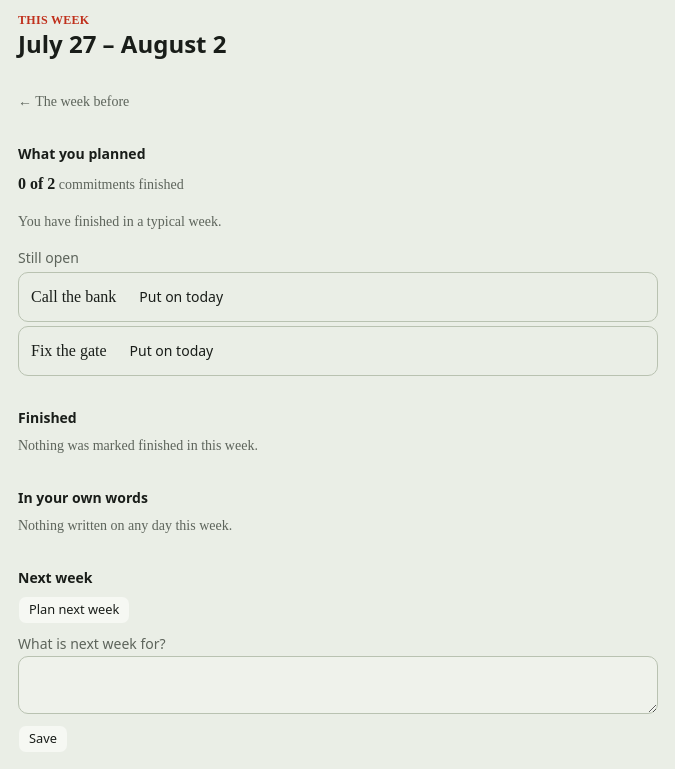
Test case: ReviewRoute › puts one unfinished commitment on today, and only that one
Step 1. Click the button with aria-label "Put Call the bank on today" → coordinates (181, 297), box [128, 281, 234, 313]
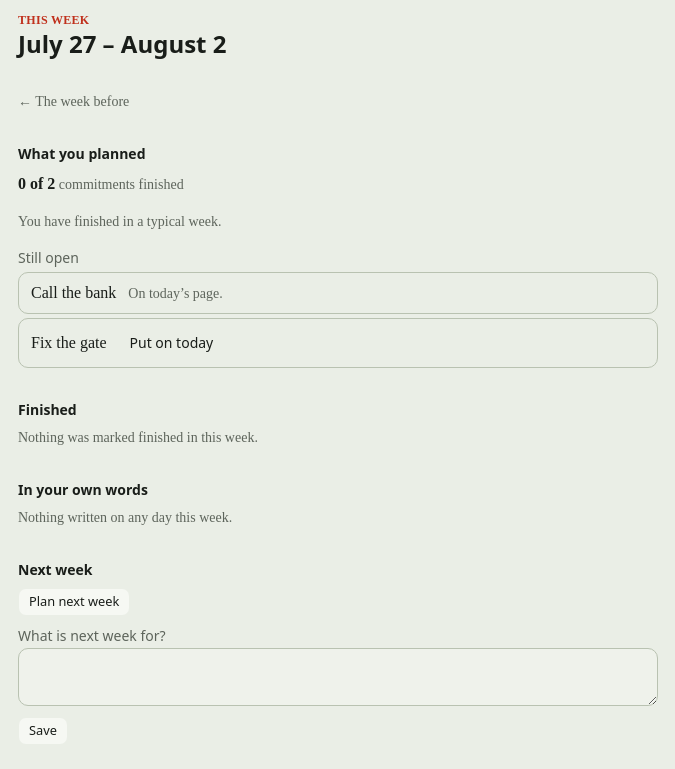
Expected: the text "On today’s page." is shown, [128, 284, 223, 304]
